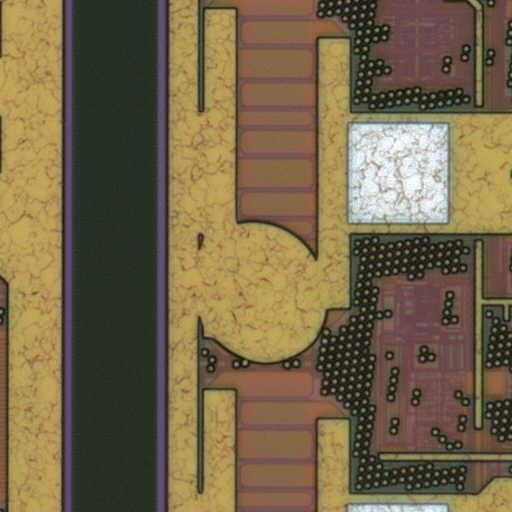BLOCK ETCH: (183, 215, 339, 371)
